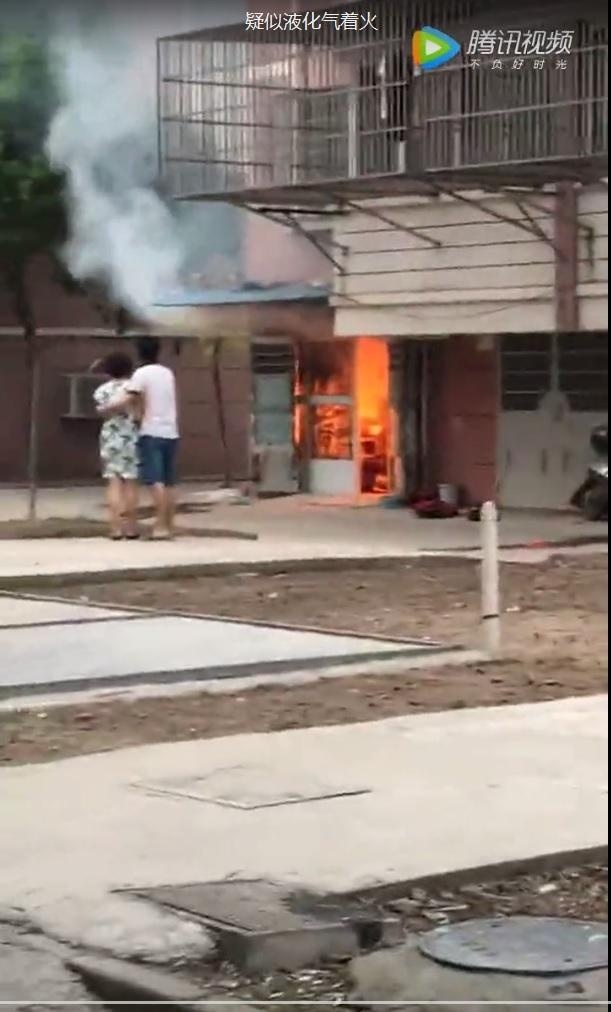fire: (287, 339, 396, 463)
